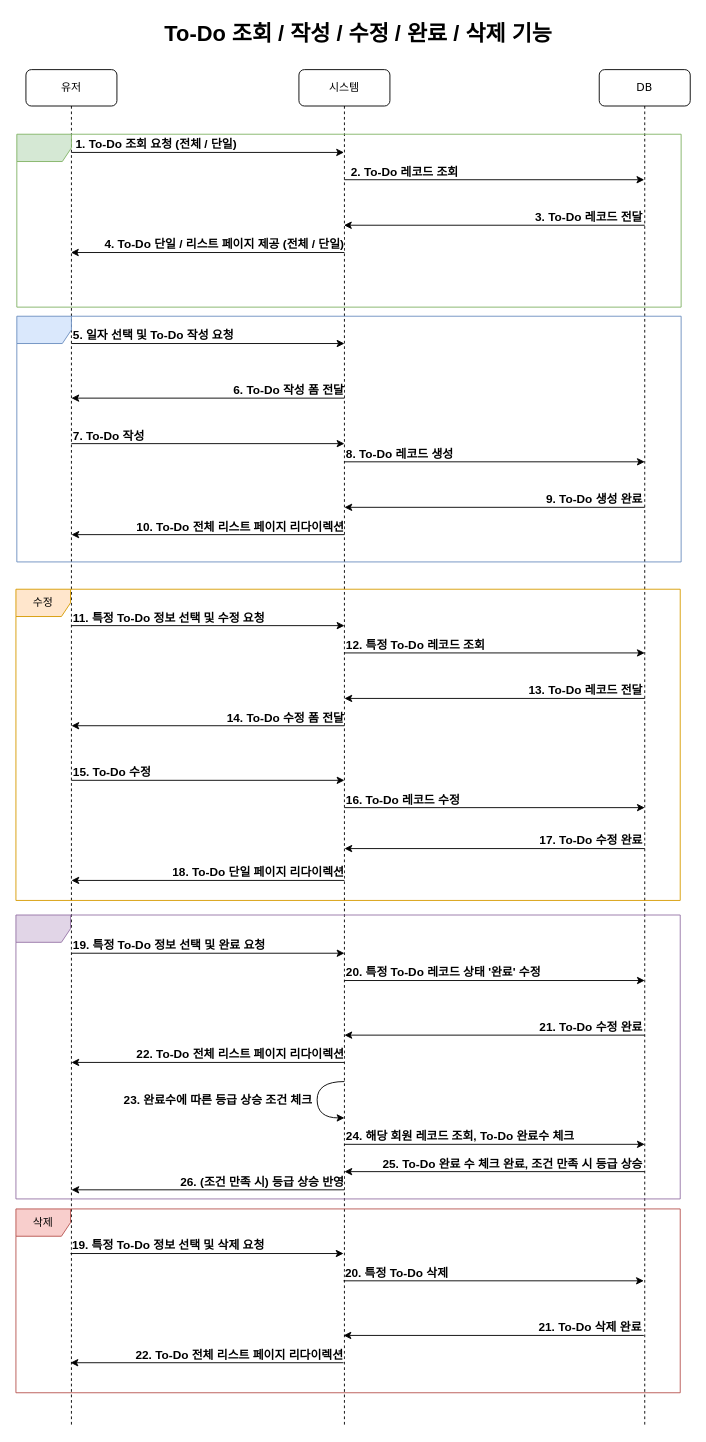
The diagram is 706 pixels wide and 1442 high, and some of its shapes have lost their labels. The shapes that lost their labels are listed below. From the top down, each one's centre as x and y in pixels, then its label:
At (x=348, y=220): "조회".
At (x=348, y=438): "작성".
At (x=347, y=1056): "완료".
